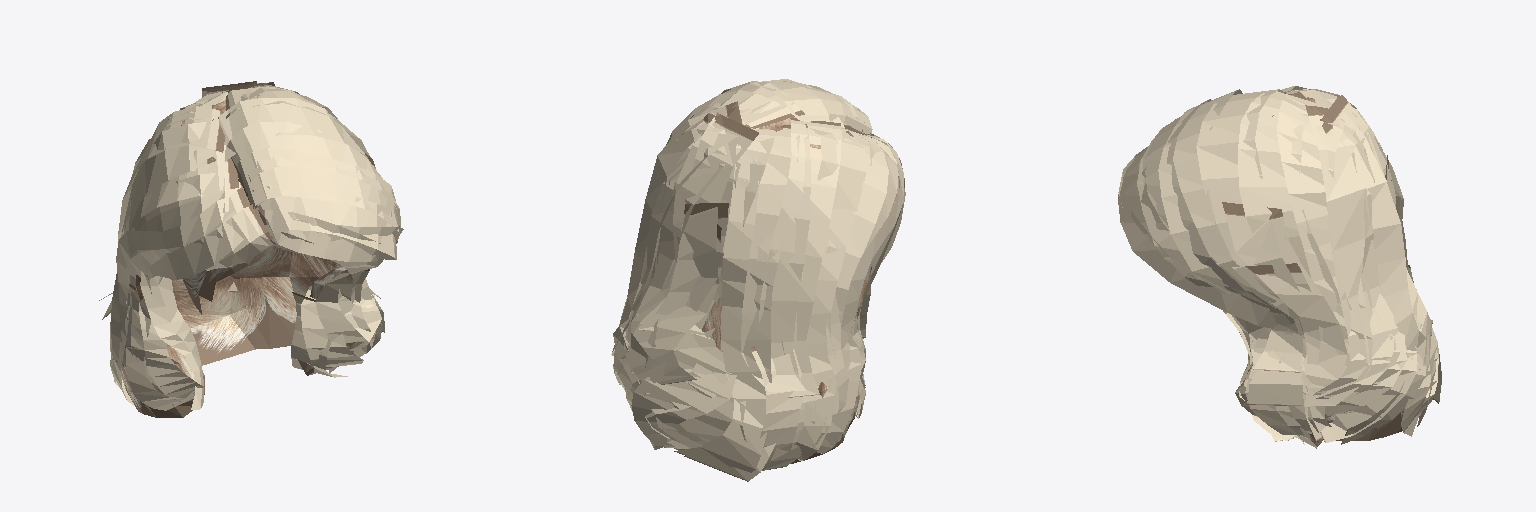
The picture shows the model from 3 angles: view 1: azimuth 30°, elevation 25°; view 2: azimuth 150°, elevation 25°; view 3: azimuth 270°, elevation 25°; orthographic projection.
Bounding box in the file's own units: 22.46 × 29.39 × 26.81.
3 materials, 1 textured.